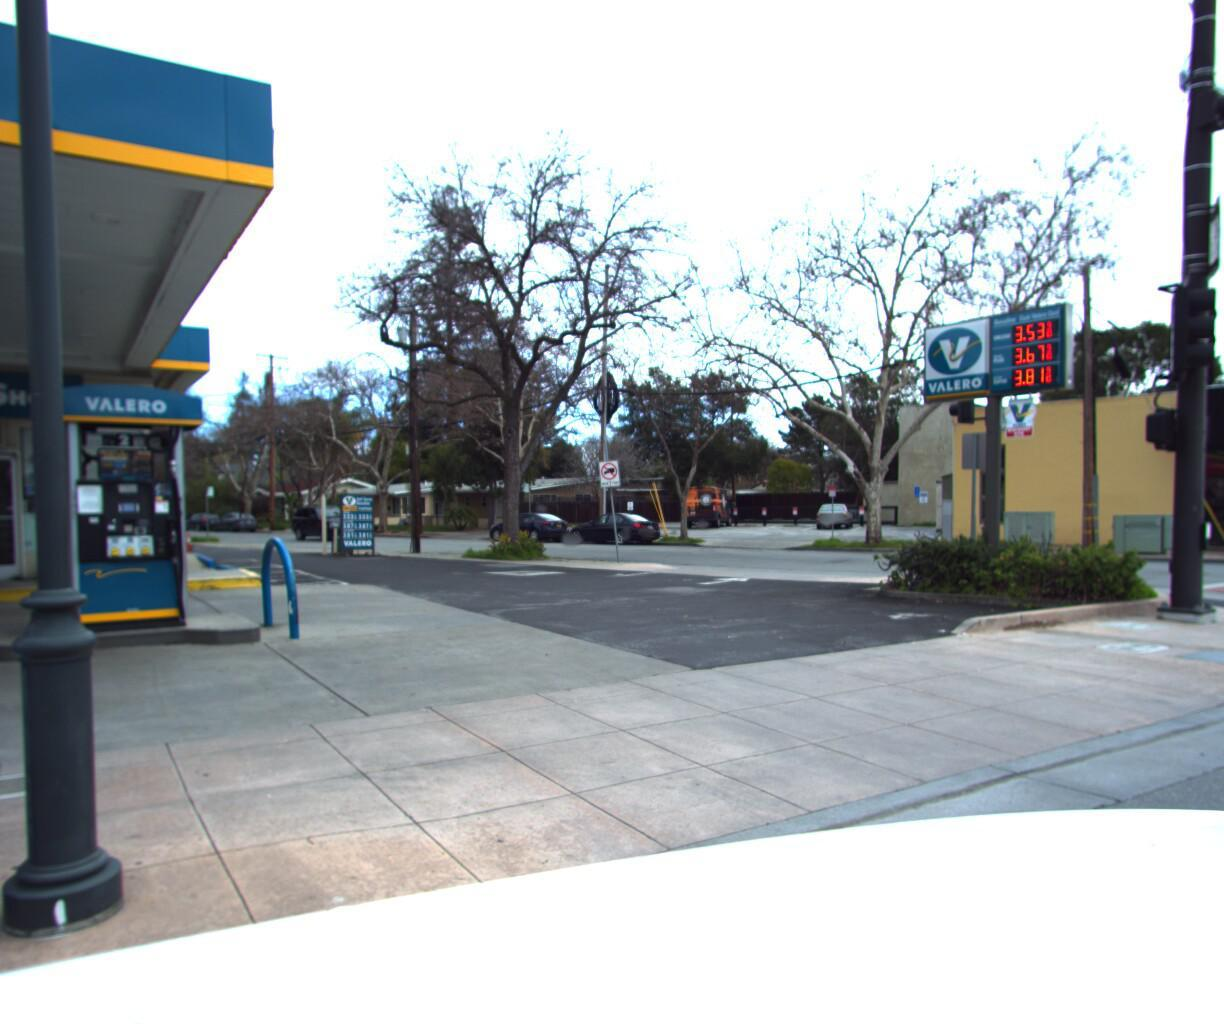car: (562, 501, 671, 541), (281, 493, 372, 535), (485, 501, 575, 535), (207, 501, 266, 527), (173, 500, 227, 524)
